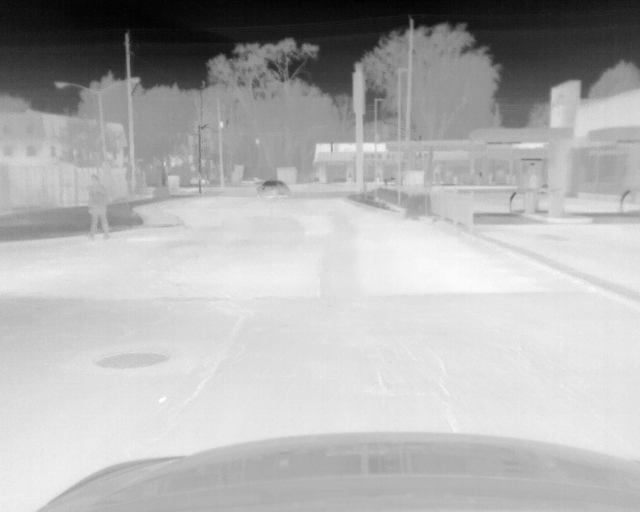car: (257, 180, 291, 198)
people: (86, 173, 111, 244)
